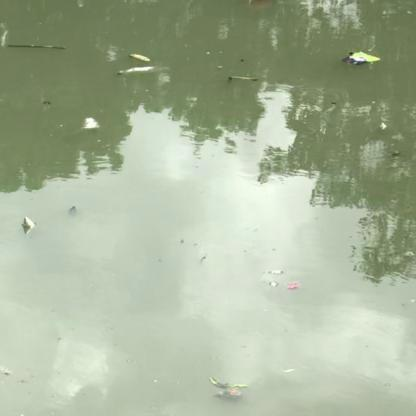Plastic: (114, 64, 154, 78), (126, 48, 153, 65)
Trash: (343, 46, 377, 72)
